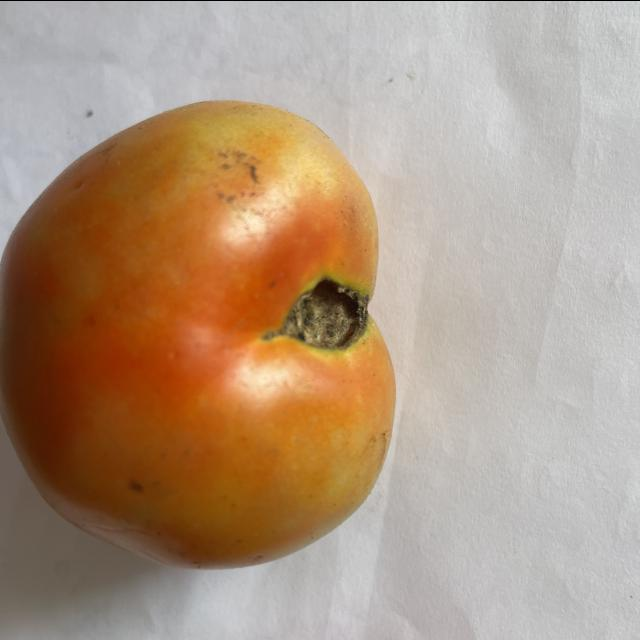fruitworm_bore: (286, 272, 372, 360)
